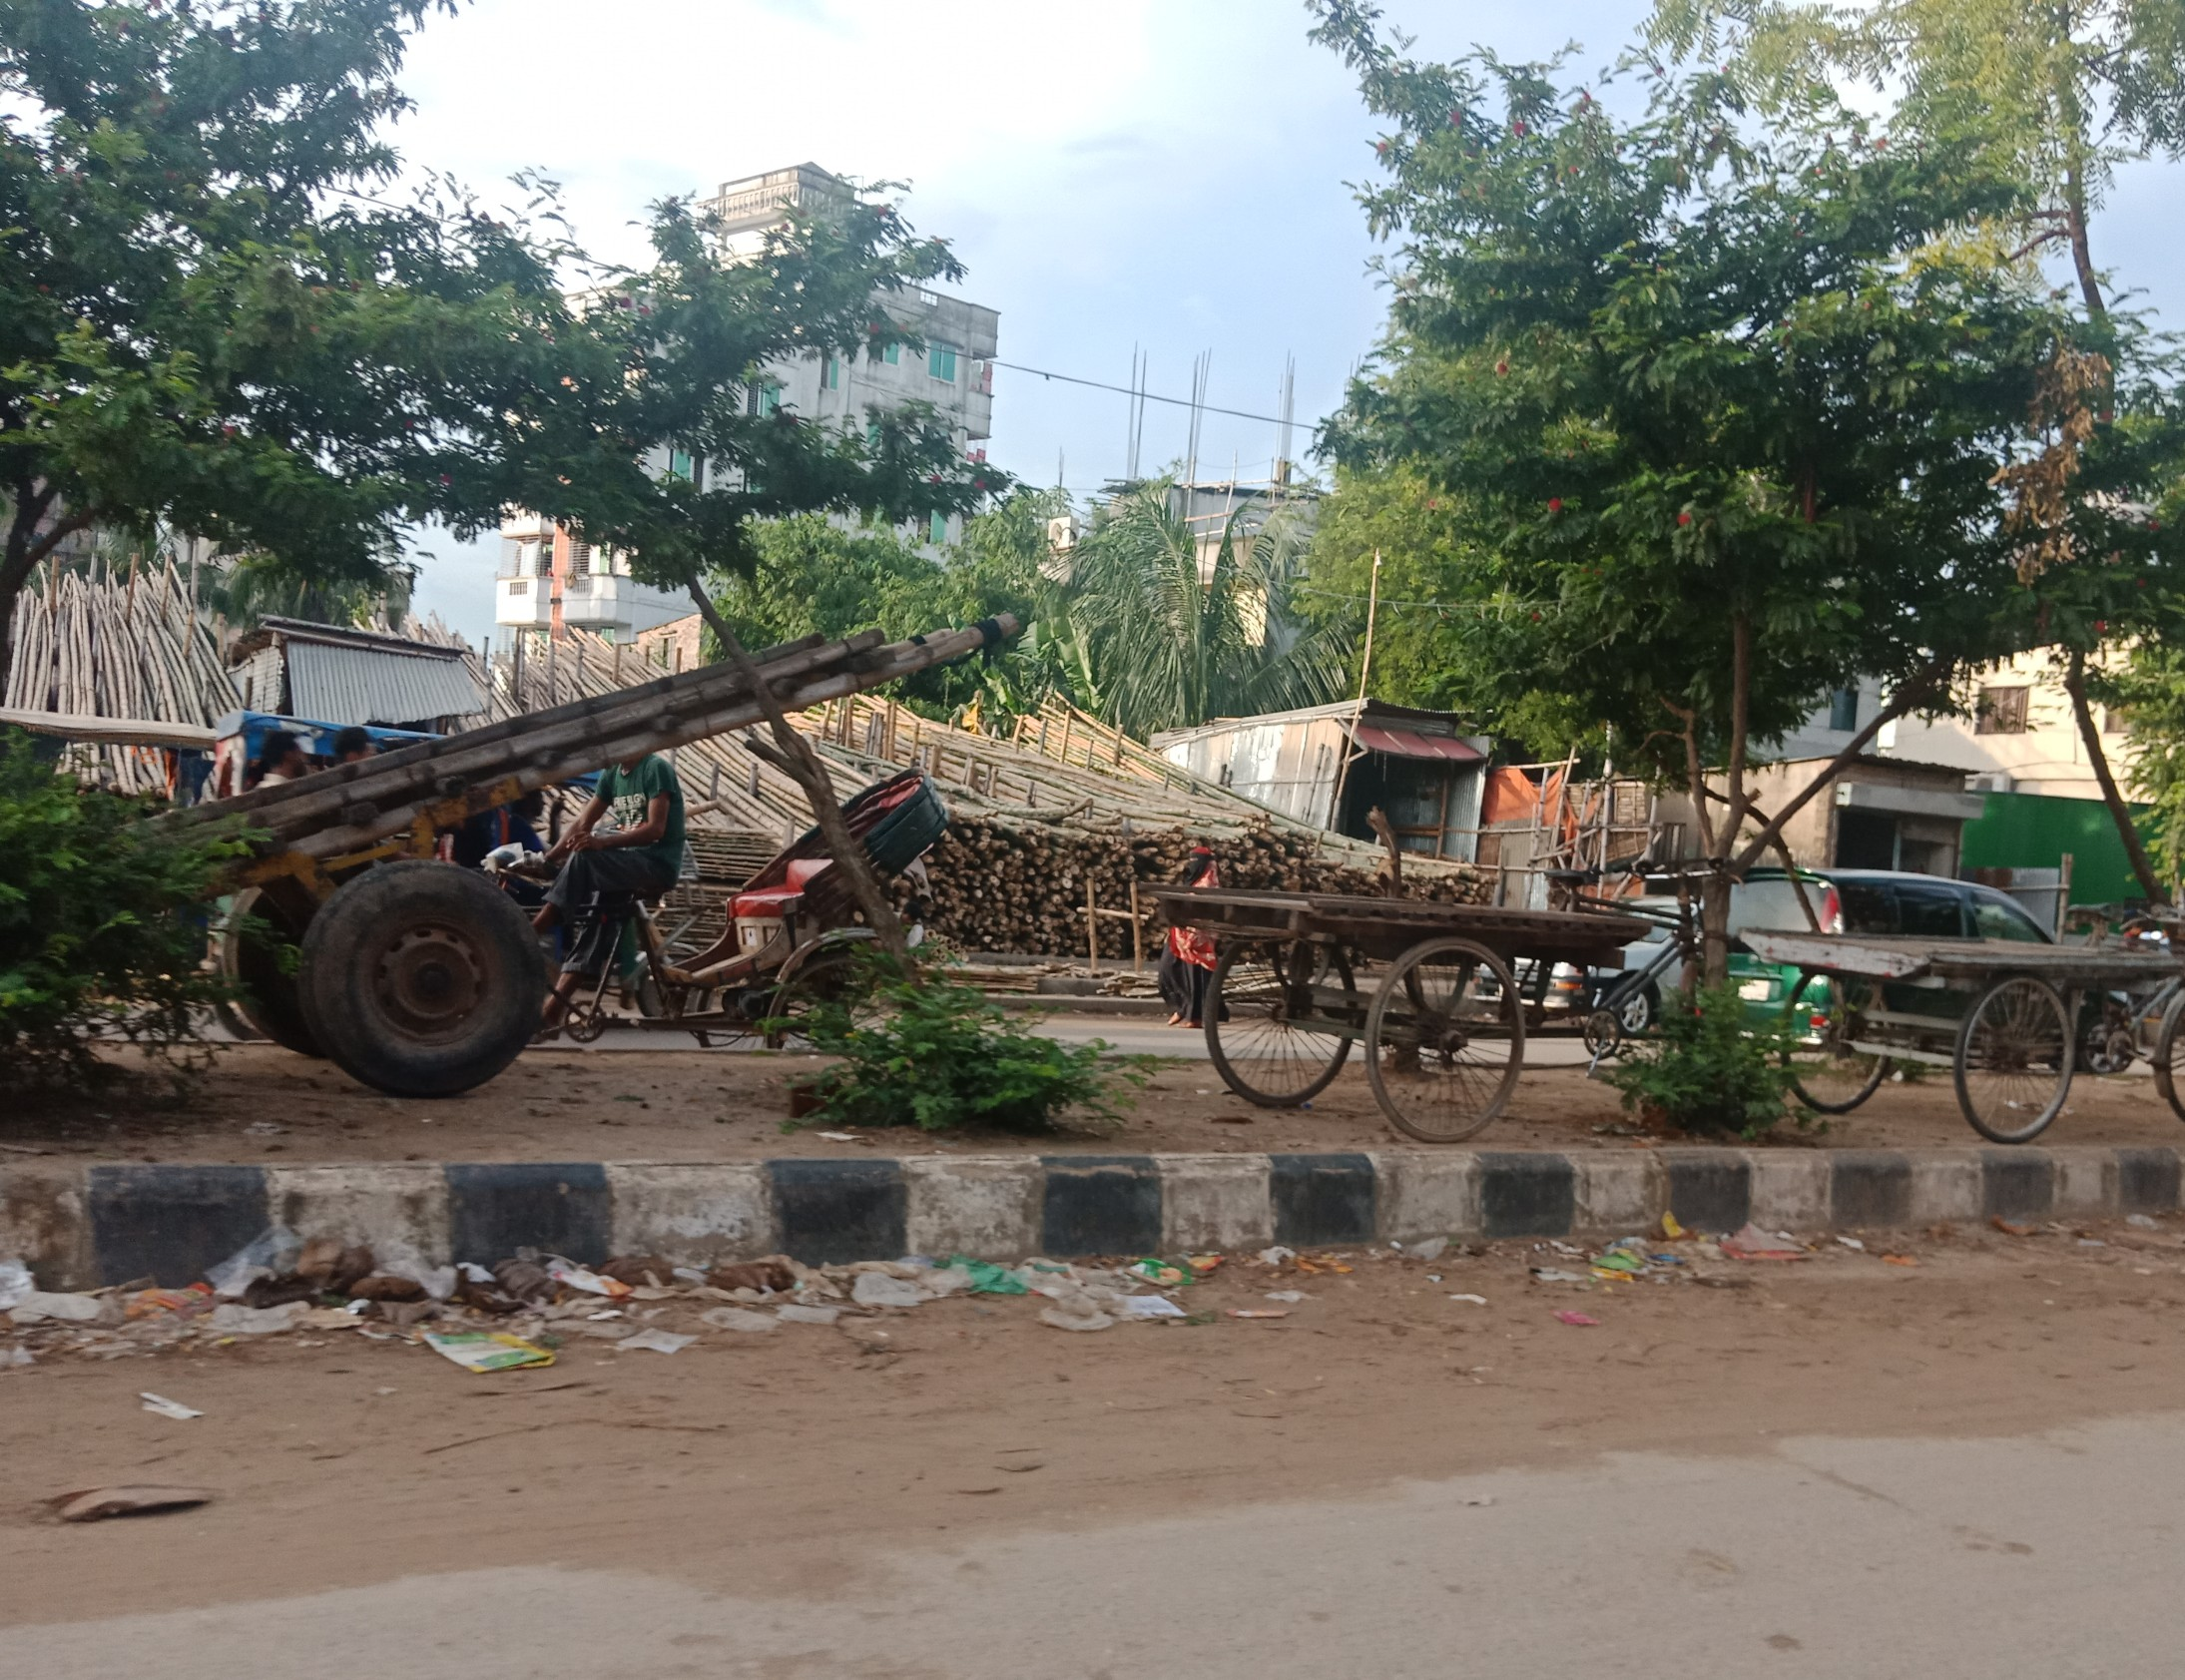rickshaw: (533, 757, 932, 1064)
van: (1142, 854, 1786, 1158), (1742, 912, 2185, 1168)
wheelbarrow: (25, 584, 1024, 1108)
